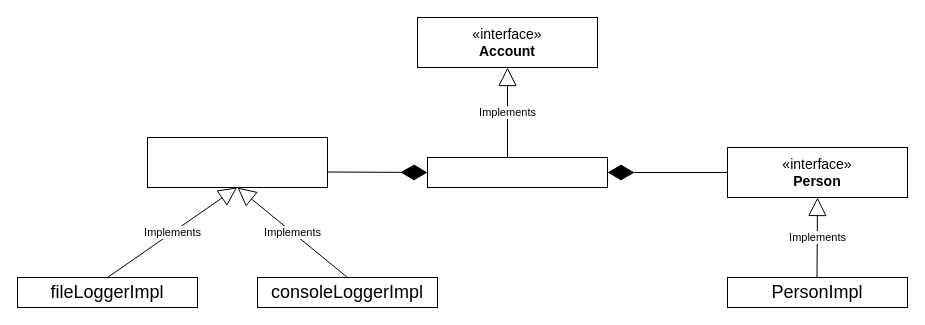
Some shapes in this 925 by 325 pixel diagram are drawn without their labels. Each missing label, with the box of its shape:
AccountImpl: (426, 156, 608, 188)
«interface» Logger: (146, 136, 328, 188)
